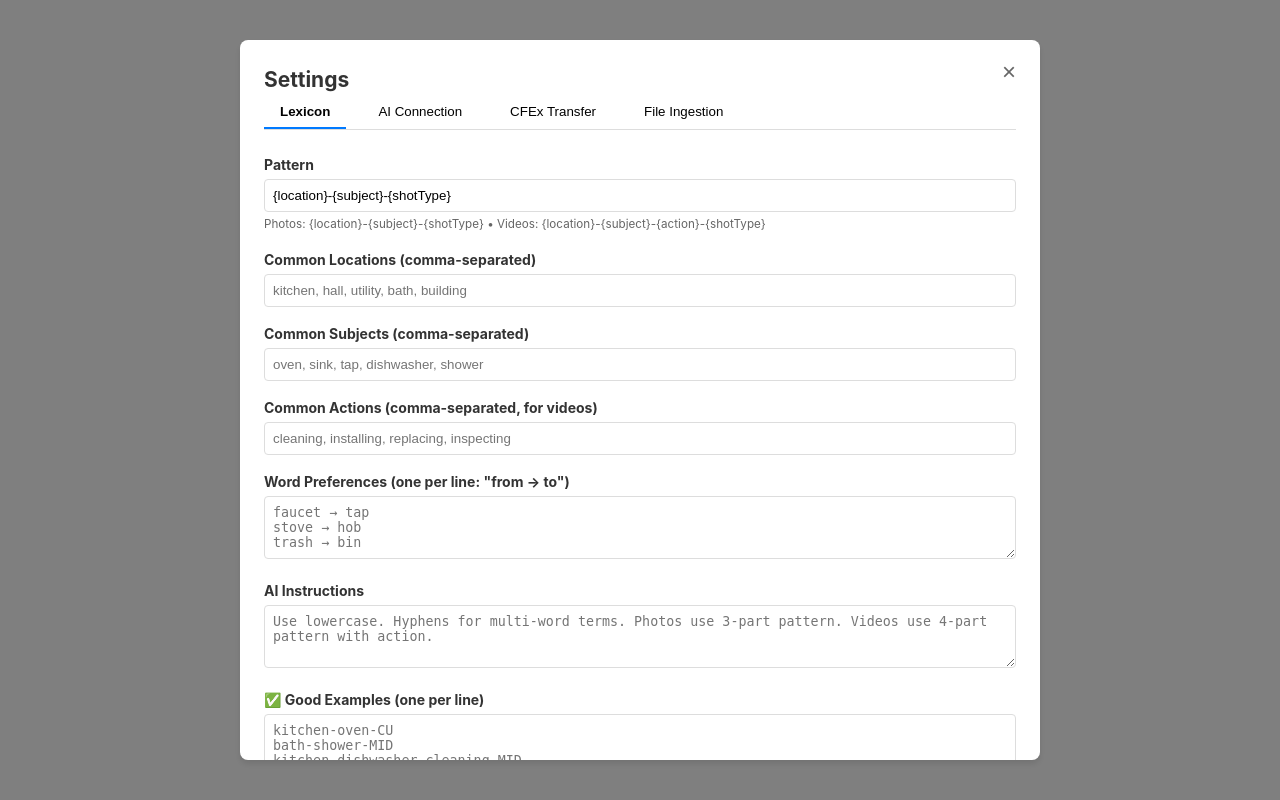
SettingsModal › CFEx Transfer Settings Tab › should switch to CFEx Transfer tab when clicked
Click the button "CFEx Transfer". click: (553, 112)
box: [494,96,612,128]
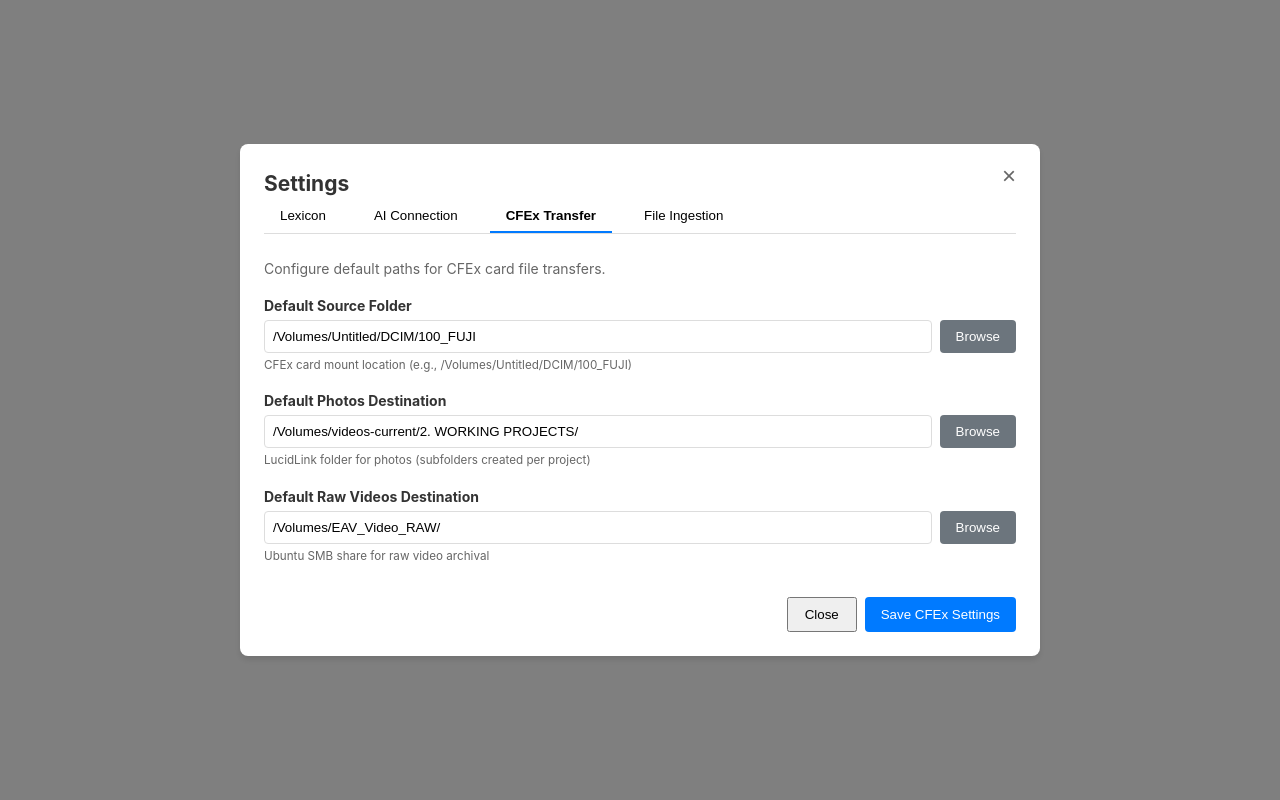
Expected: the field labelled "Default Source Folder" is shown, [264,320,932,352]
Expected: the field labelled "Default Photos Destination" is shown, [264,415,932,448]
Expected: the field labelled "Default Raw Videos Destination" is shown, [264,510,932,544]
